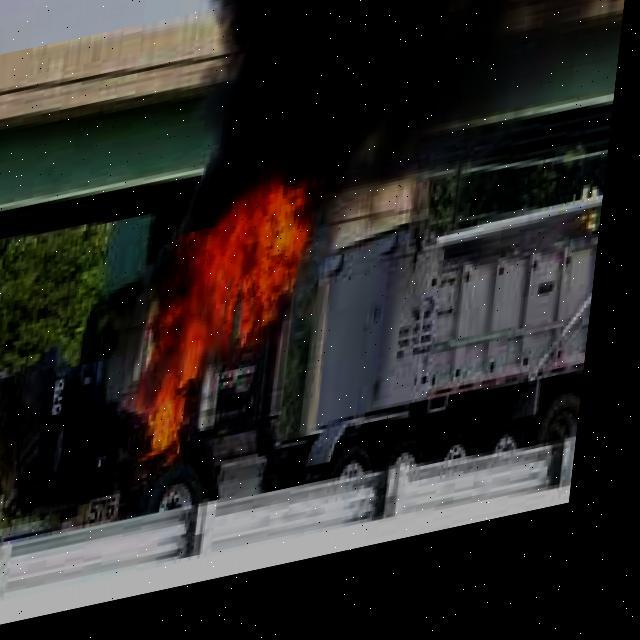Fire: (131, 184, 332, 463)
